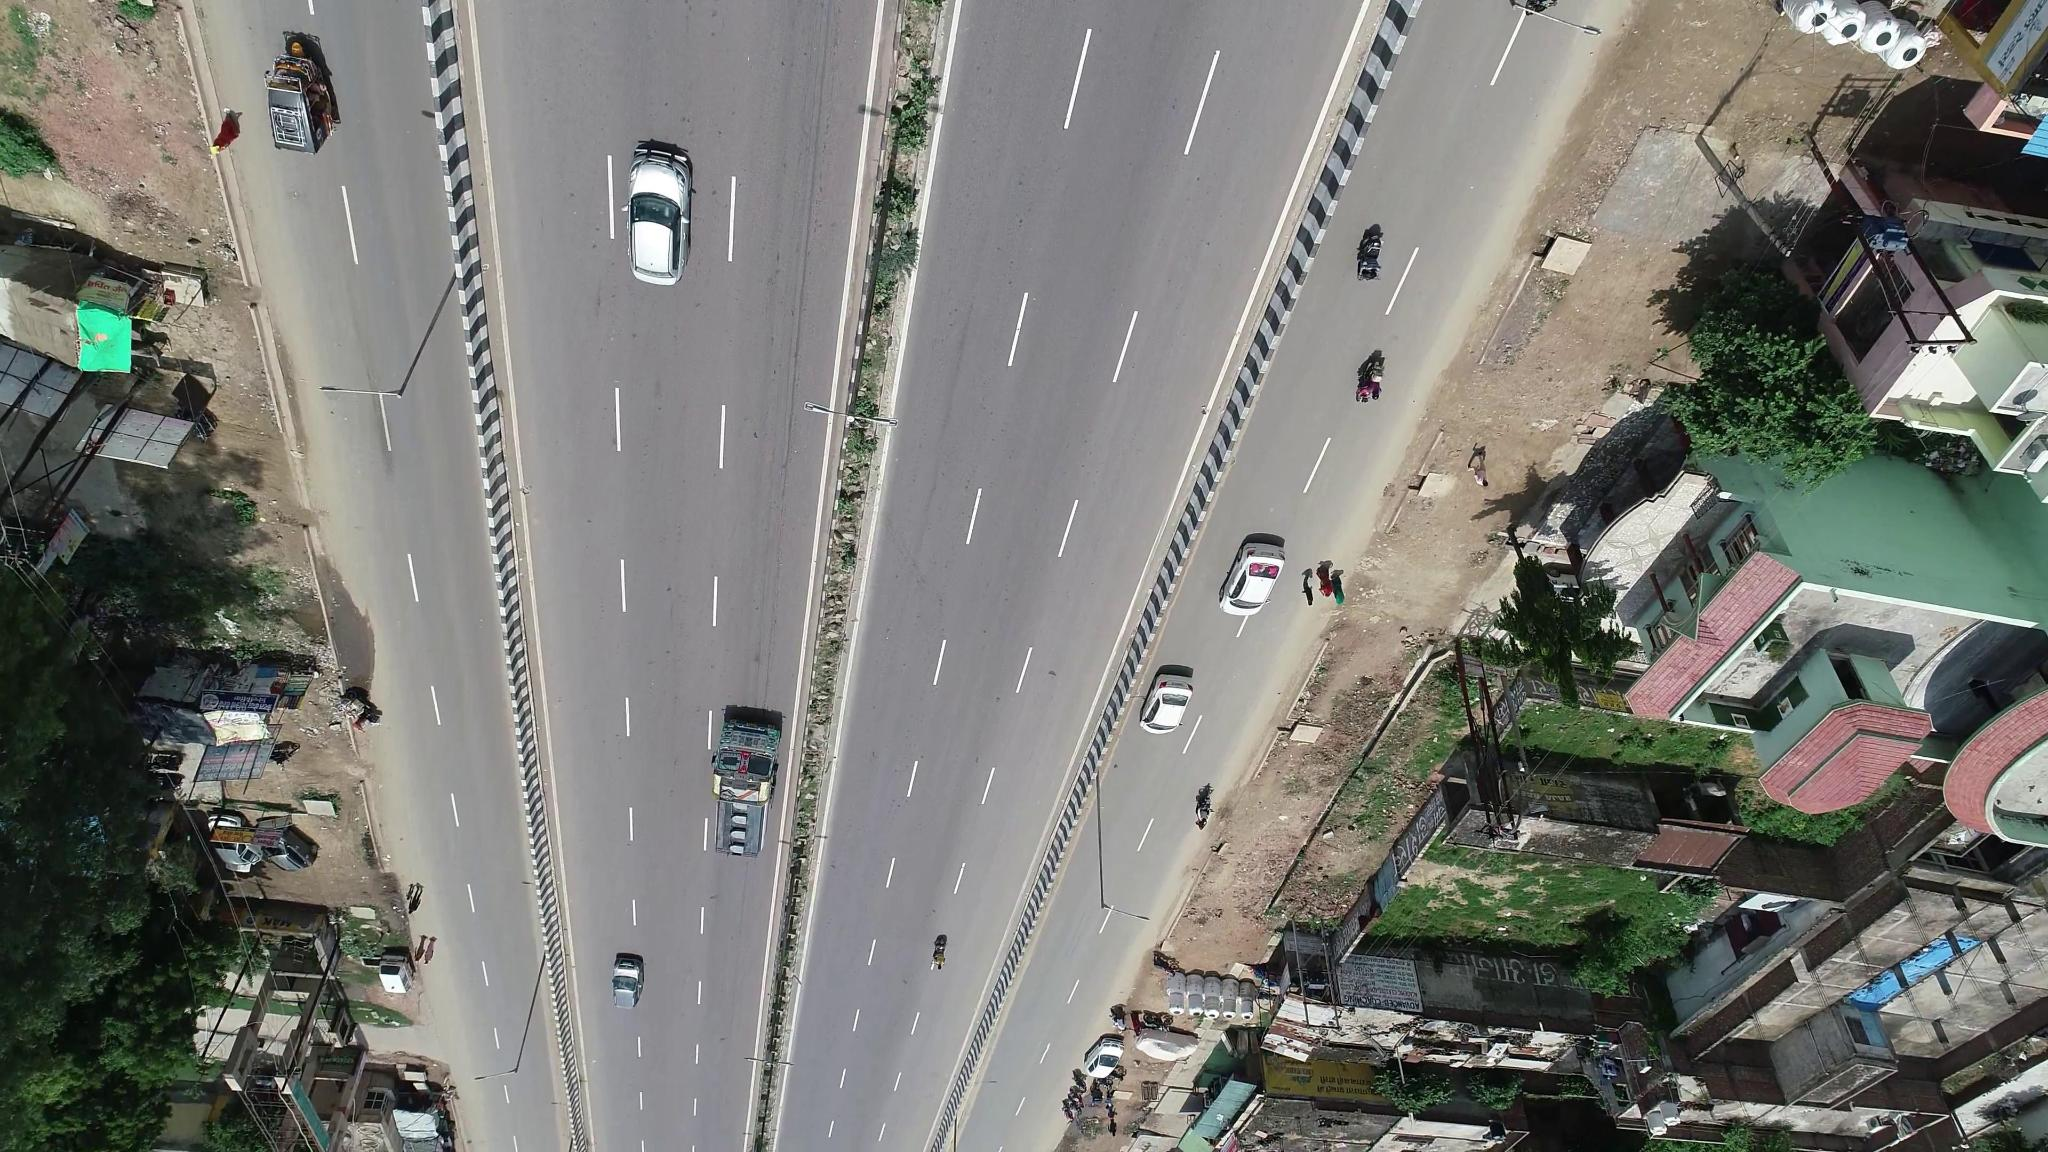Cracks: (775, 98, 831, 494)
